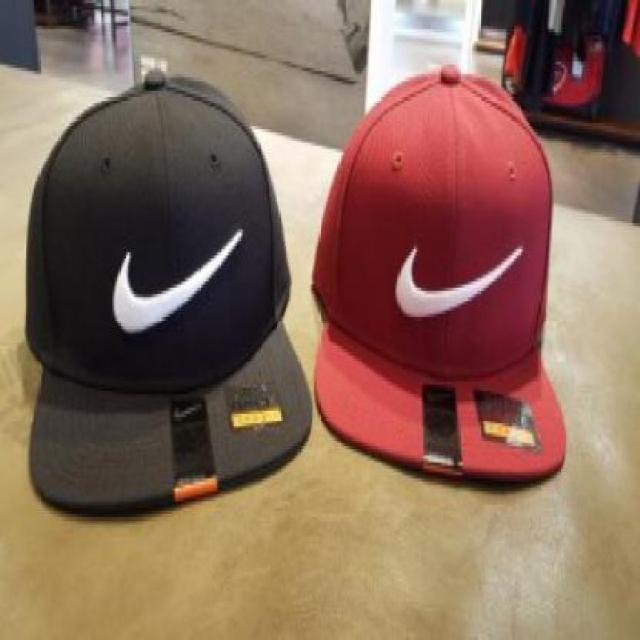Nike: (112, 222, 241, 330), (394, 242, 522, 313), (172, 397, 200, 414)
